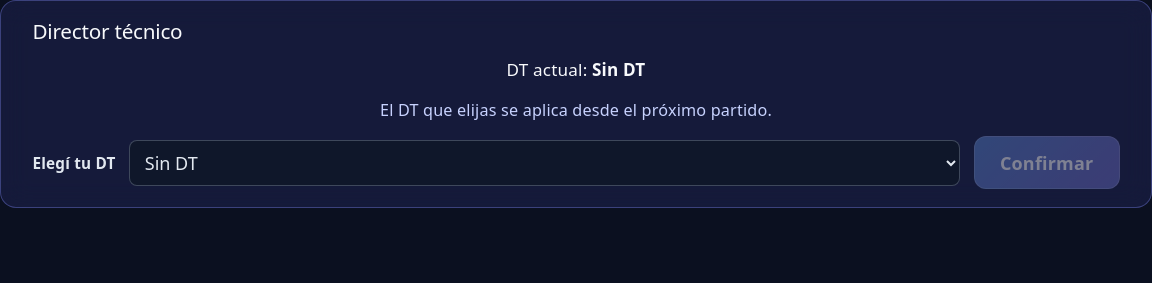
Test case: CoachSelector › Debería mostrar el error y conservar el DT anterior cuando la liga no está en curso
Select "DT ofensivo" in the dropdown at {"x": 545, "y": 163}, box [129,140,960,186]
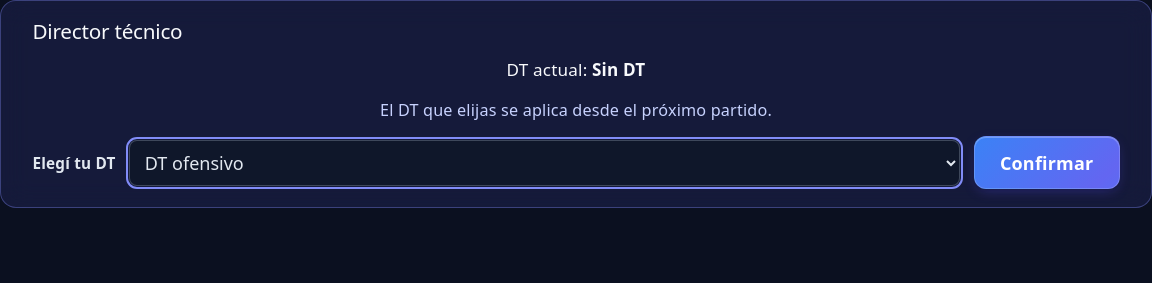
Click the button "Confirmar" at {"x": 1047, "y": 163}, box [974,136,1120,189]
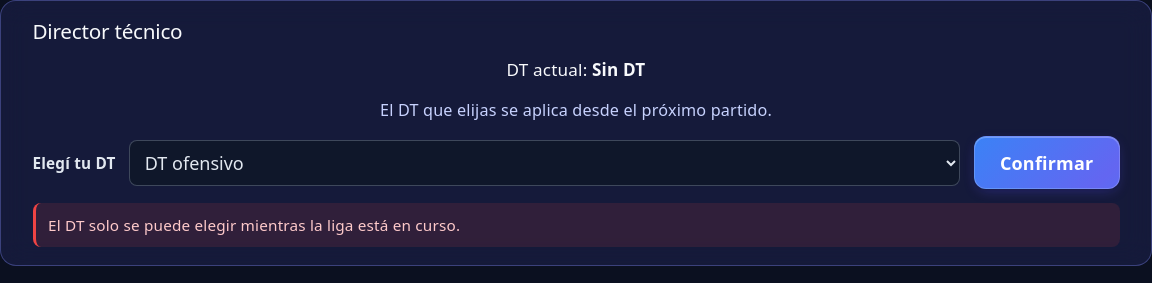
Expected: the message reads "El DT solo se puede elegir mientras la liga está en curso.", [48,215,460,235]
